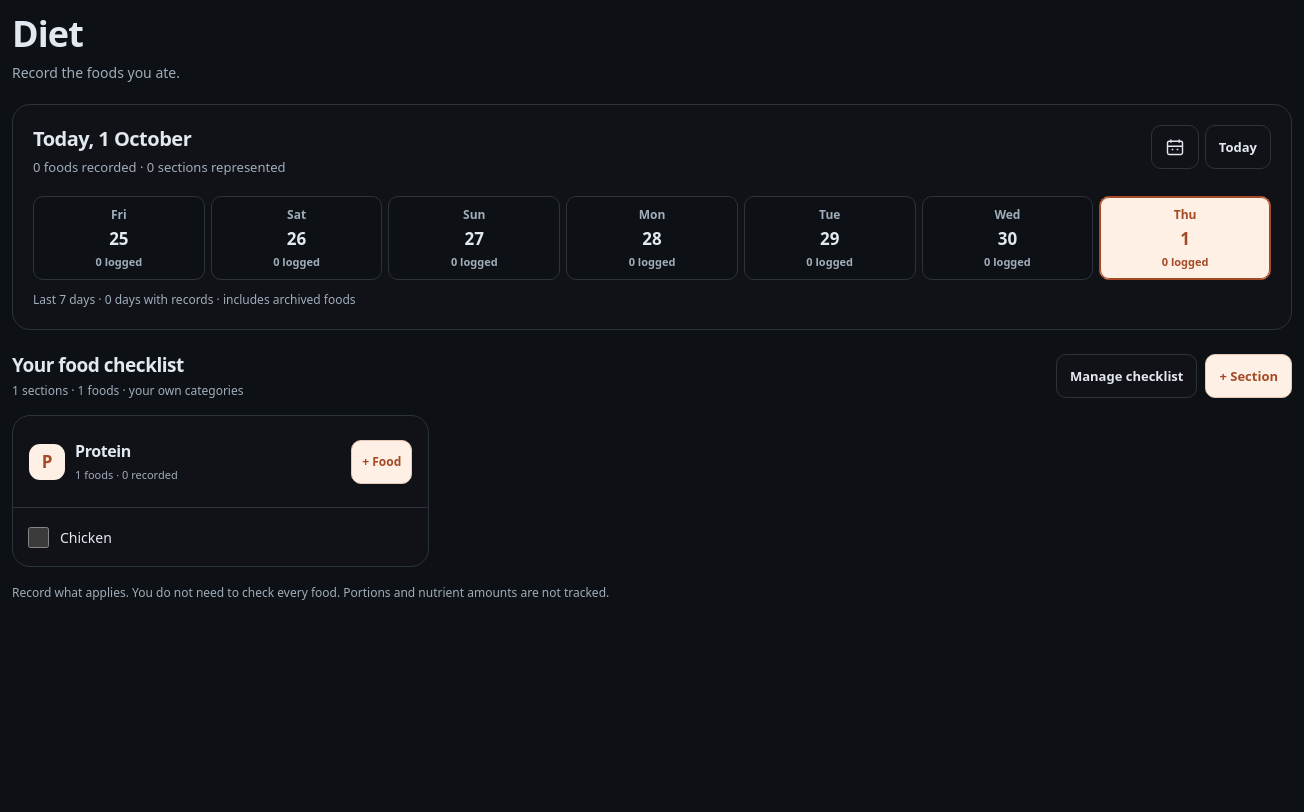
Scenario: shows errors rather than claiming a failed check-off was saved
Click the checkbox labelled "Chicken" at (38, 537), box [28,527,49,548]
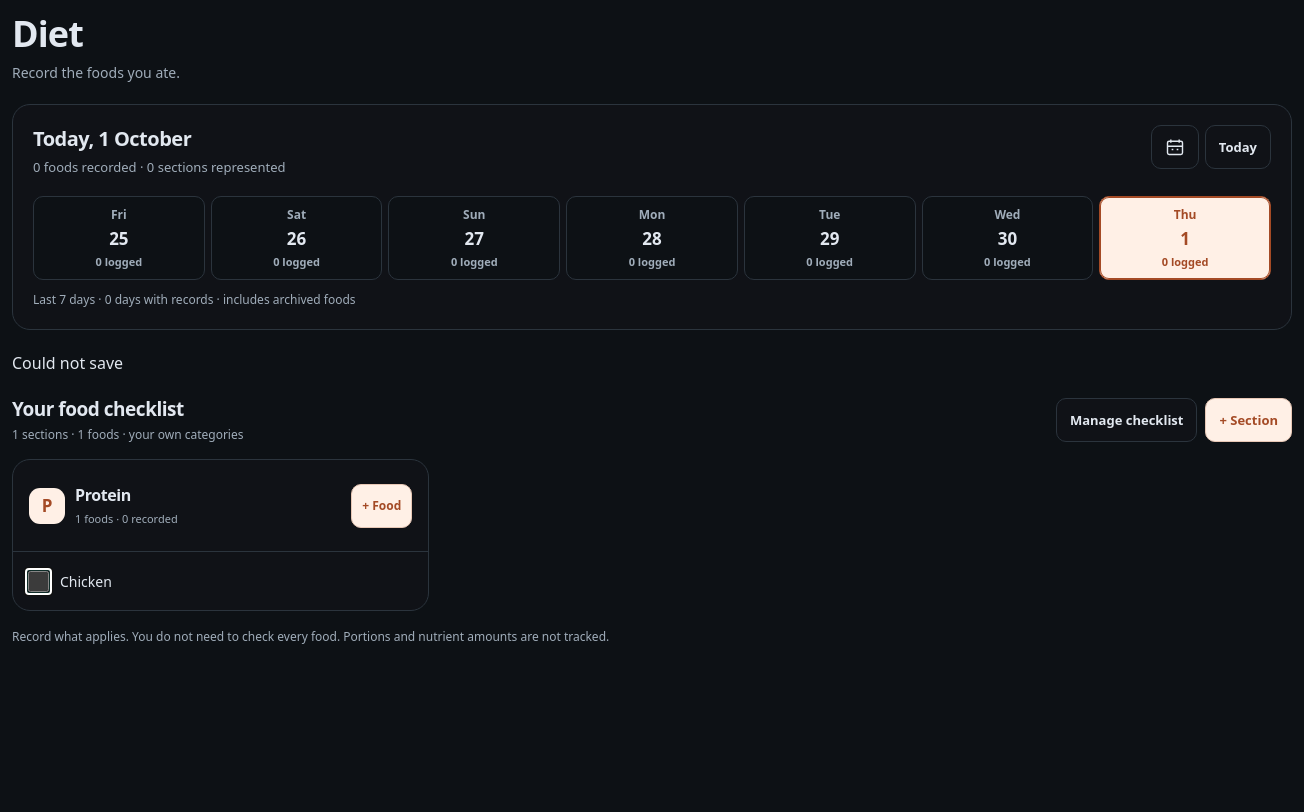
Expected: the checkbox labelled "Chicken" is not checked, [28,571,49,592]
Now the message "Could not save" is shown, box [12,352,123,374]
